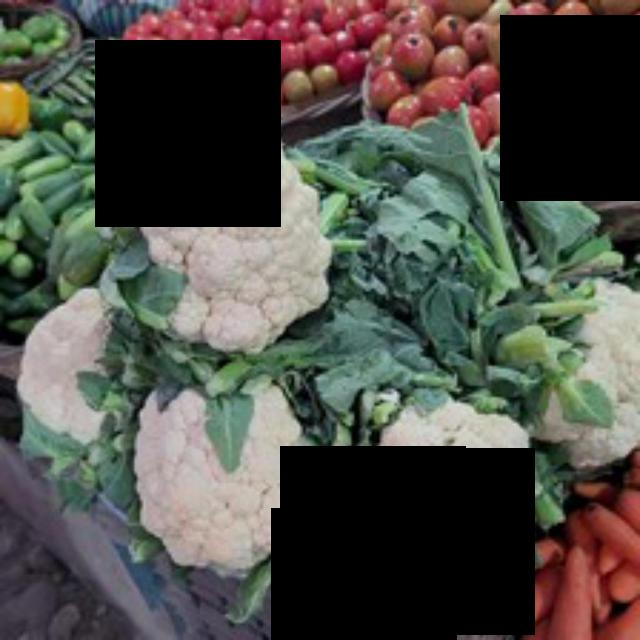cauliflower: (129, 105, 338, 355)
